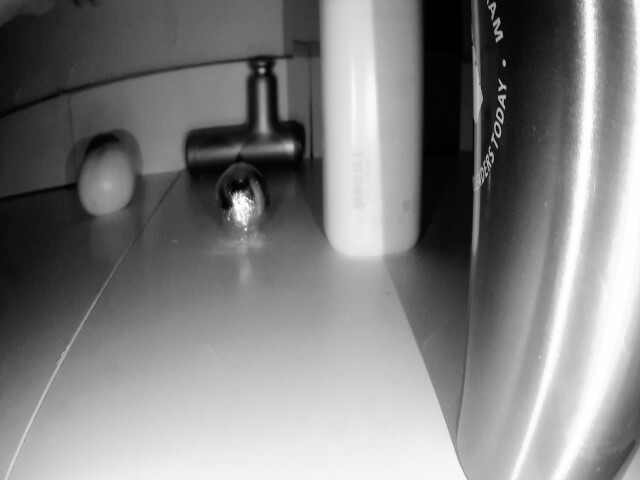silver: (213, 166, 267, 237)
